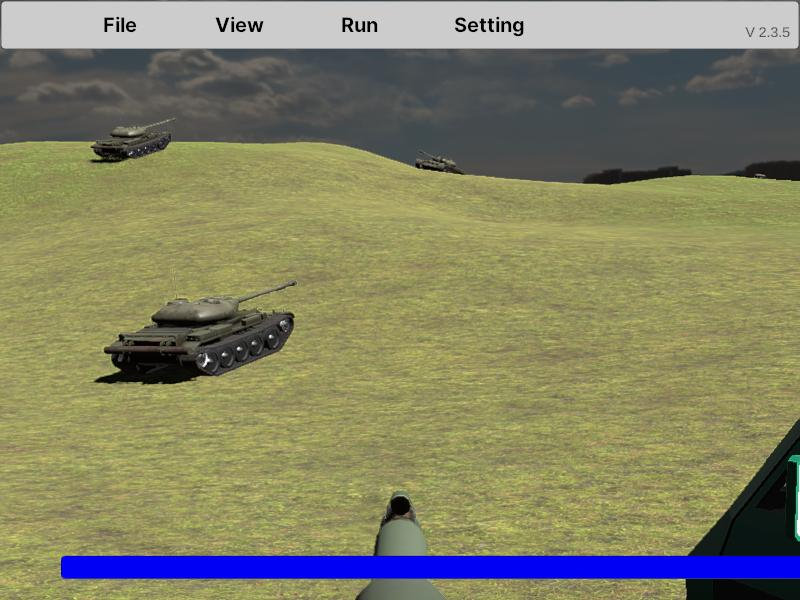Tank: (105, 280, 298, 382), (91, 116, 176, 161)
